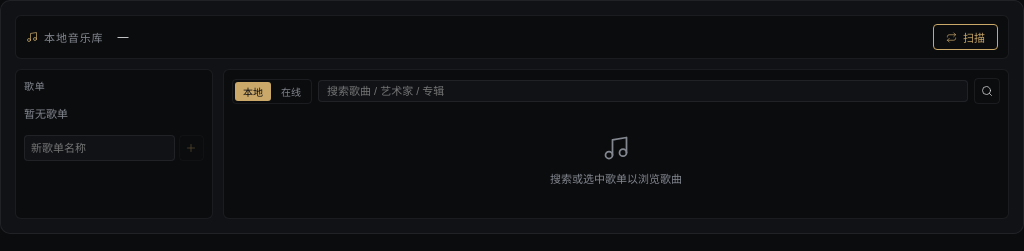
Test case: LibraryView 在线搜索（M32.29b） › 在线结果渲染：歌名 / 艺术家 / 时长，data-mode=online
This screenshot has width=1024, height=251.
Click the button with test id "library-scope-online" at (291, 91), box [273,82,309,100]
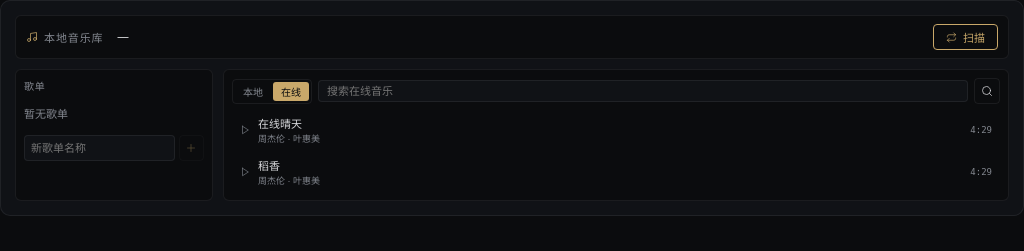
Expected: the number of buttons with test id "library-online-row" is 2, [232,110,1000,150]; [232,152,1000,192]
Expected: the button with test id "library-online-row" shows "在线晴天", [232,110,1000,150]
Expected: the button with test id "library-online-row" shows "周杰伦", [232,110,1000,150]
